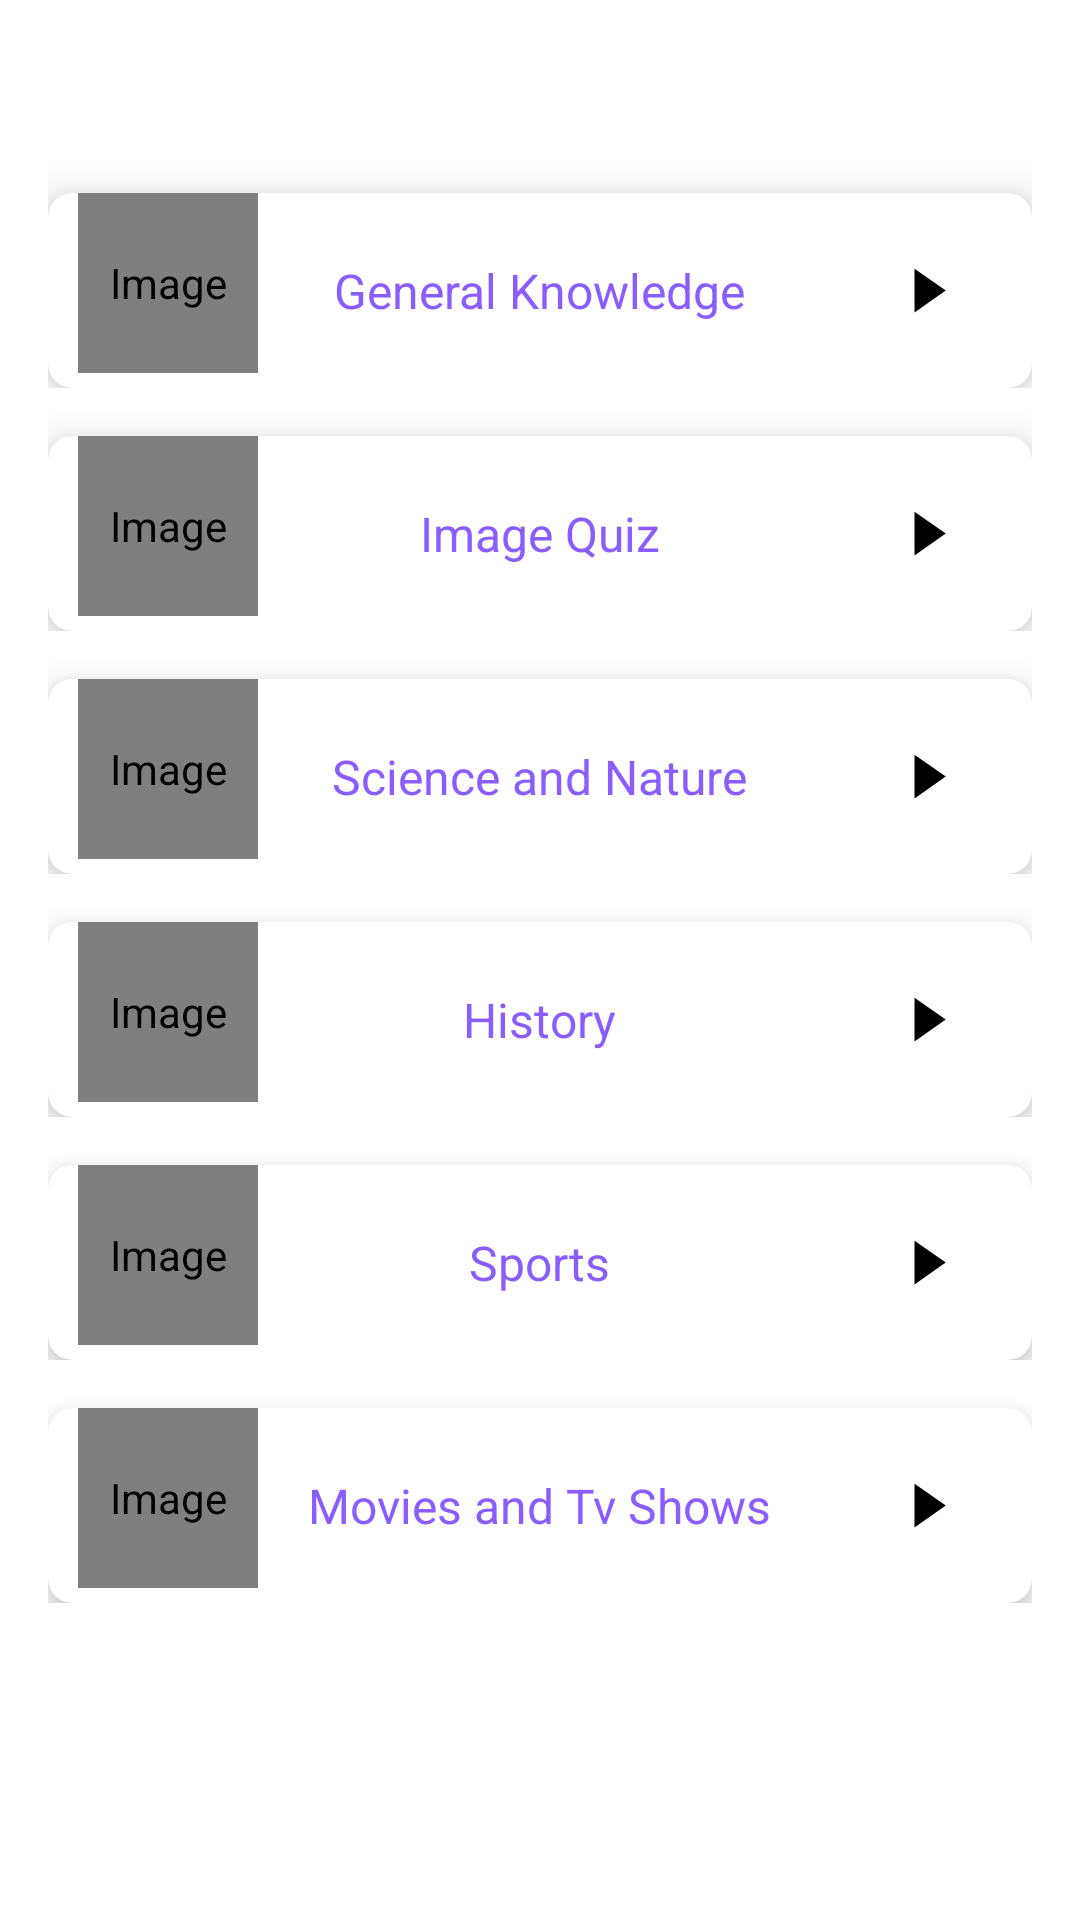

Locate icon controls on the screen. Image size 1080×1920, boxes as [left=x1, top=y1, right=x2, bottom=y2].
arrow right: [left=914, top=269, right=946, bottom=313], [left=914, top=512, right=946, bottom=556], [left=914, top=755, right=946, bottom=799], [left=914, top=998, right=946, bottom=1042], [left=914, top=1241, right=946, bottom=1285], [left=914, top=1484, right=946, bottom=1528]
